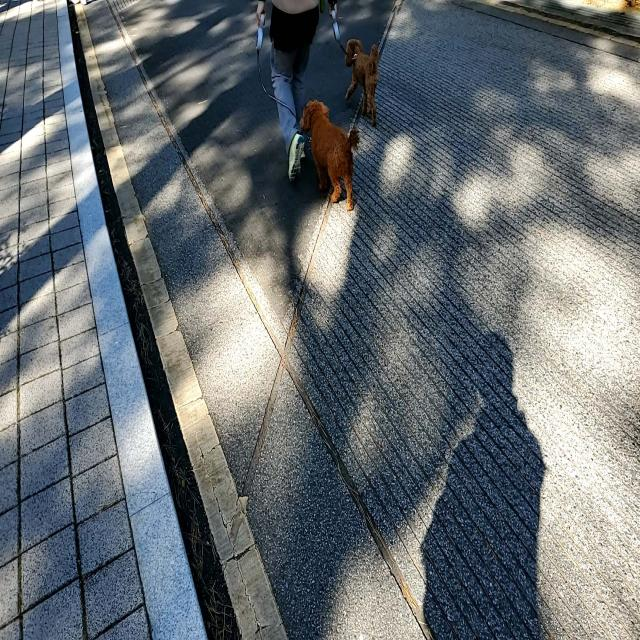Leashed_Dog: (253, 0, 360, 214), (299, 0, 379, 128)
